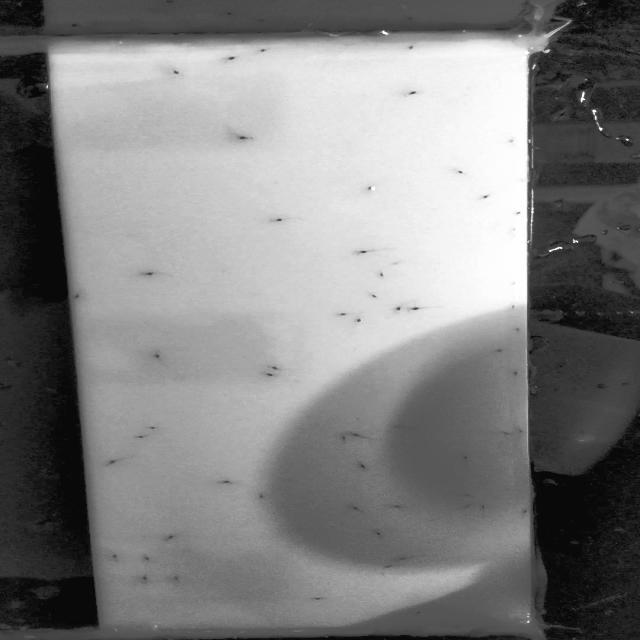shrimp: (52, 289, 94, 306), (388, 40, 426, 54), (402, 301, 430, 318), (401, 84, 426, 102), (490, 426, 516, 442), (368, 266, 395, 281), (101, 455, 127, 470), (163, 64, 188, 79), (234, 132, 260, 146), (126, 430, 152, 444), (246, 45, 278, 56), (354, 245, 379, 259), (361, 290, 385, 304), (344, 428, 369, 441), (472, 501, 497, 514), (343, 500, 366, 514), (217, 53, 241, 66), (148, 350, 170, 363), (502, 302, 522, 316), (268, 215, 291, 227), (487, 344, 506, 358), (384, 501, 408, 512), (102, 550, 126, 561), (510, 208, 535, 218), (507, 366, 527, 378), (258, 492, 278, 504), (139, 552, 156, 566), (354, 459, 372, 472), (514, 424, 528, 440), (372, 526, 388, 540), (499, 138, 519, 149), (262, 369, 282, 380), (136, 270, 158, 280), (145, 423, 165, 434), (162, 532, 182, 543), (337, 306, 351, 321), (351, 316, 372, 326), (217, 474, 232, 488), (457, 450, 472, 464), (167, 574, 186, 585), (517, 508, 537, 518), (390, 301, 405, 314), (137, 573, 156, 583), (393, 554, 412, 564), (362, 183, 379, 194), (376, 562, 399, 570), (478, 189, 492, 202), (452, 168, 472, 177), (308, 594, 326, 604), (512, 324, 527, 335), (461, 489, 476, 500), (268, 362, 282, 373), (338, 432, 352, 443), (464, 502, 476, 512), (413, 609, 426, 618)
